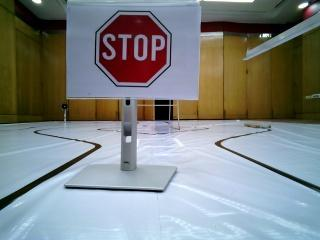stop: (74, 3, 186, 88)
